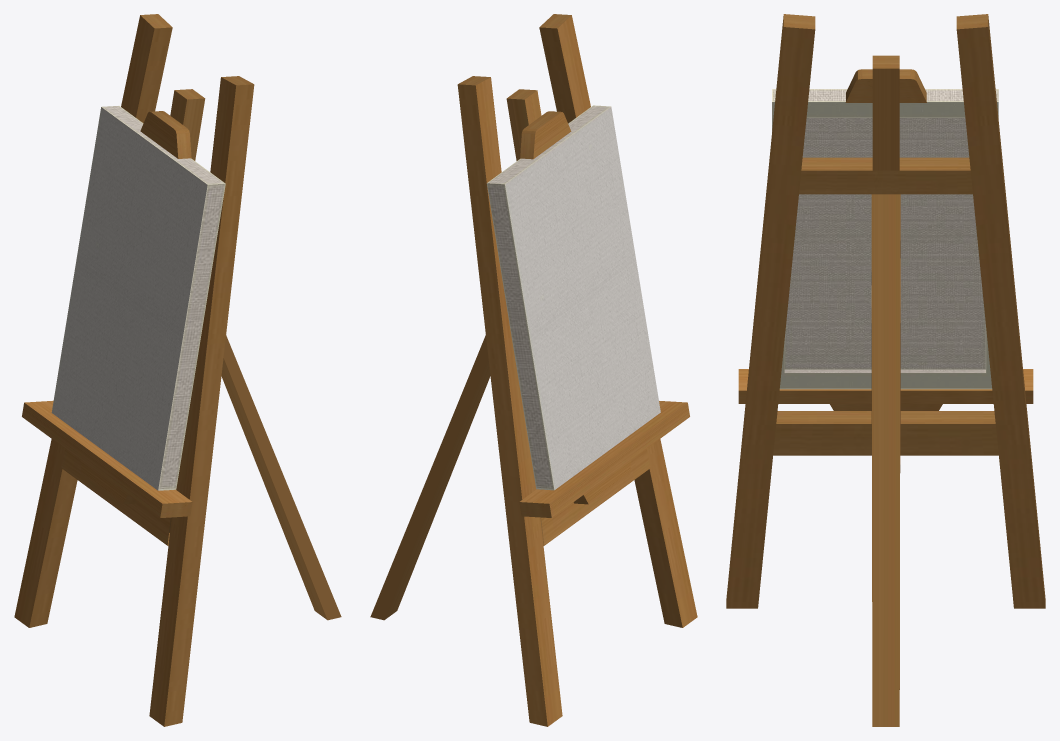
Rendered from main.obj.
The picture shows the model from 3 angles, left to right: view 1: azimuth 30°, elevation 25°; view 2: azimuth 150°, elevation 25°; view 3: azimuth 270°, elevation 25°; orthographic projection. The views are drawn at different scales.
Parts seen in each view (by area): view 1: Box014, Box003, Box009, Box013, Box010; view 2: Box014, Box003, Box009, Box013, Box010; view 3: Box003, Box014, Box009, Box013, Box010.
Part boxes in pixels (x1,y1,x2,y2): Box014: (51, 106, 225, 490); Box003: (14, 14, 341, 726); Box009: (22, 400, 192, 517); Box013: (140, 111, 191, 158); Box010: (80, 460, 137, 503); Box014: (487, 105, 660, 490); Box003: (370, 14, 697, 726); Box009: (519, 401, 689, 517); Box013: (520, 111, 571, 159); Box010: (573, 460, 631, 504); Box003: (726, 14, 1045, 726); Box014: (772, 89, 998, 389); Box009: (738, 369, 1033, 403); Box013: (845, 69, 926, 102); Box010: (830, 404, 942, 410).
Bounding box in the file's own units: 1.69 × 3.94 × 1.79.
Materials: 5 (5 with a texture image).
